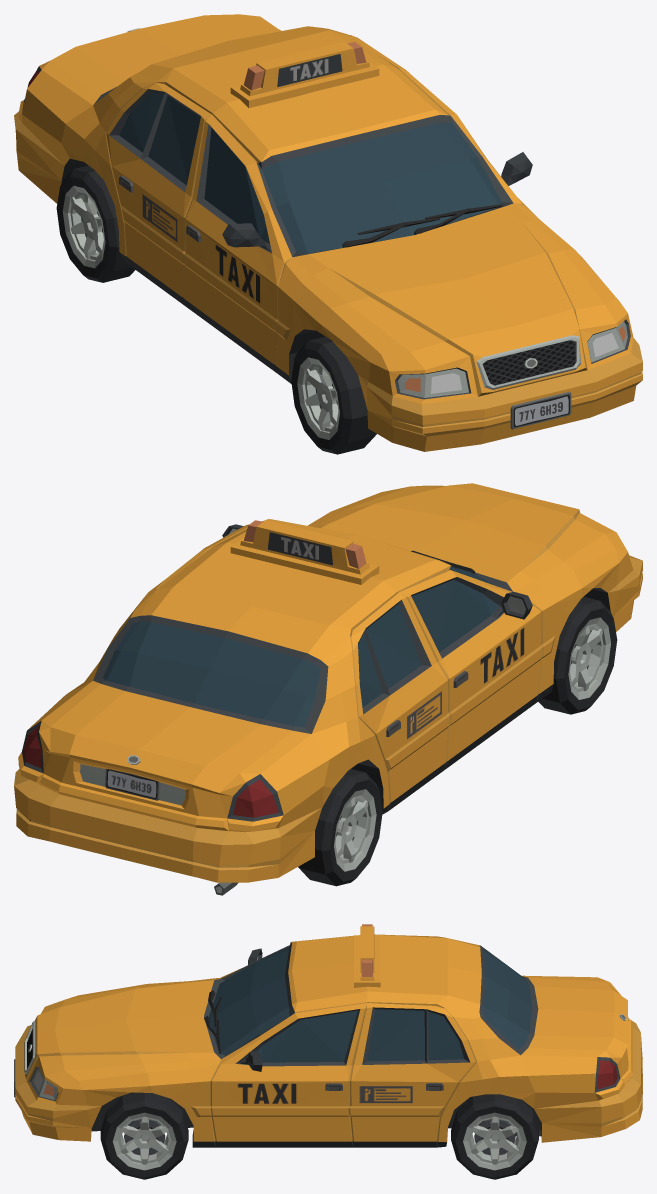
File: taxi.glb
3 renders of one model, top to bottom at view 1: azimuth 30°, elevation 25°; view 2: azimuth 150°, elevation 25°; view 3: azimuth 270°, elevation 25°, orthographic. The views are drawn at different scales.
Parts seen in each view (by area): view 1: SM_Veh_Car_Taxi_01, SM_Veh_Car_Taxi_Glass, SM_Veh_Car_Taxi_Wheel_fr, SM_Veh_Car_Taxi_Wheel_rr, SM_Veh_Car_Taxi_Plates; view 2: SM_Veh_Car_Taxi_01, SM_Veh_Car_Taxi_Glass, SM_Veh_Car_Taxi_Wheel_rr, SM_Veh_Car_Taxi_Wheel_fr, SM_Veh_Car_Taxi_Plates; view 3: SM_Veh_Car_Taxi_01, SM_Veh_Car_Taxi_Glass, SM_Veh_Car_Taxi_Wheel_fl, SM_Veh_Car_Taxi_Wheel_rl.
Boxes of the visible parts, box(x1,y1,x2,y2) form: SM_Veh_Car_Taxi_01: box(14, 14, 642, 451); SM_Veh_Car_Taxi_Glass: box(119, 92, 501, 253); SM_Veh_Car_Taxi_Wheel_fr: box(291, 336, 376, 454); SM_Veh_Car_Taxi_Wheel_rr: box(56, 165, 135, 282); SM_Veh_Car_Taxi_Plates: box(510, 391, 571, 429); SM_Veh_Car_Taxi_01: box(14, 483, 642, 895); SM_Veh_Car_Taxi_Glass: box(103, 566, 499, 727); SM_Veh_Car_Taxi_Wheel_rr: box(298, 769, 382, 886); SM_Veh_Car_Taxi_Wheel_fr: box(538, 596, 617, 714); SM_Veh_Car_Taxi_Plates: box(105, 768, 160, 800); SM_Veh_Car_Taxi_01: box(15, 924, 642, 1147); SM_Veh_Car_Taxi_Glass: box(208, 947, 532, 1062); SM_Veh_Car_Taxi_Wheel_fl: box(100, 1092, 188, 1179); SM_Veh_Car_Taxi_Wheel_rl: box(451, 1094, 538, 1179).
Bounding box in the file's own units: 1.85 × 1.46 × 4.4.
2 materials, 1 textured.
